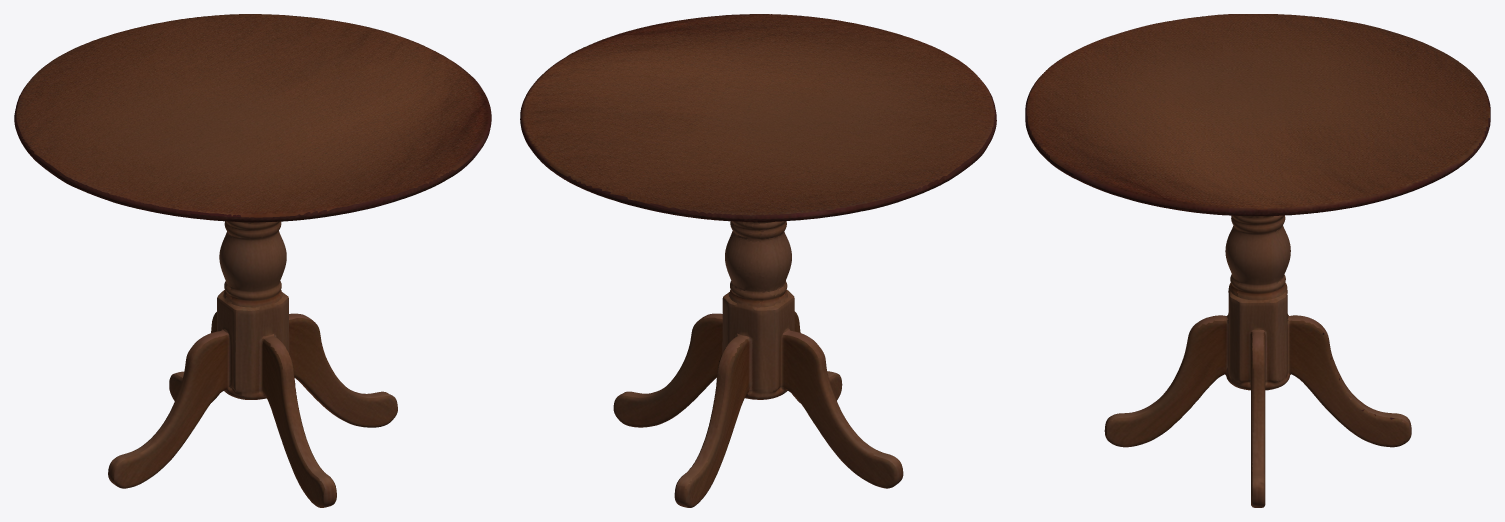
The model's file is table__table#5.glb.
3 renders of one model, left to right at view 1: azimuth 30°, elevation 25°; view 2: azimuth 150°, elevation 25°; view 3: azimuth 270°, elevation 25°, orthographic. The views are drawn at different scales.
Visible parts, largest first — view 1: tmpt8p_78t9.ply; view 2: tmpt8p_78t9.ply; view 3: tmpt8p_78t9.ply.
Boxes of the visible parts, left/top/right/bottom form: tmpt8p_78t9.ply: left=14, top=14, right=491, bottom=507; tmpt8p_78t9.ply: left=520, top=14, right=996, bottom=507; tmpt8p_78t9.ply: left=1025, top=14, right=1490, bottom=507.
Bounding box in the file's own units: 1.99 × 1.58 × 1.99.
Materials: 1 (1 with a texture image).
